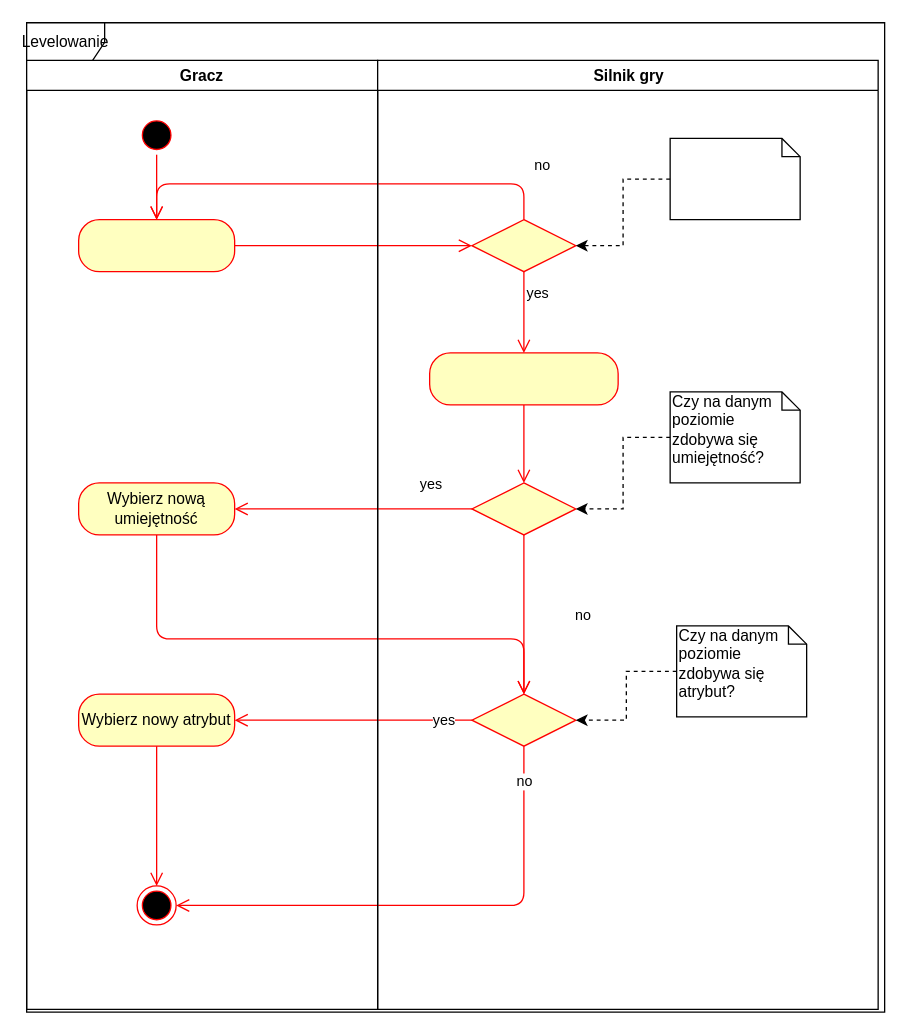
The diagram is 907 pixels wide and 1035 high, and some of its shapes have lost their labels. Each missing label, with the centre of its shape:
"Czy liczba punktów EXP przekracza granicę poziomu?" belongs at pixel 734 178.
"Zbieraj doświadczenie" belongs at pixel 156 245.
"Zwiększ poziom gracza" belongs at pixel 523 378.
